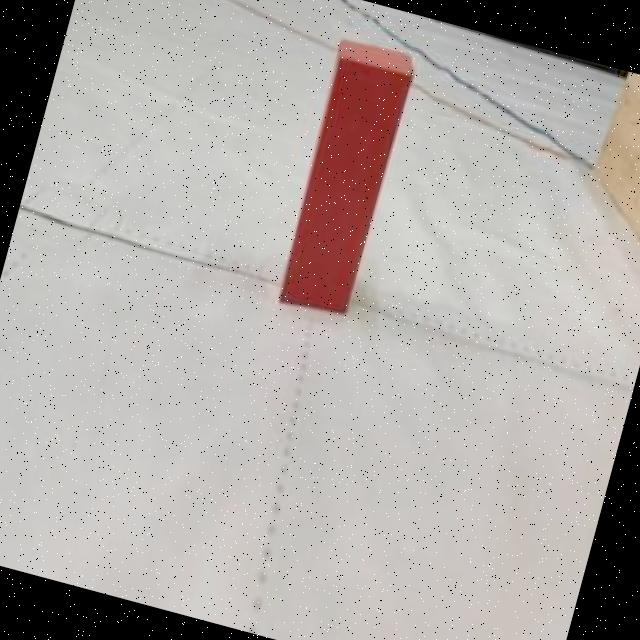redbox: (272, 38, 418, 321)
